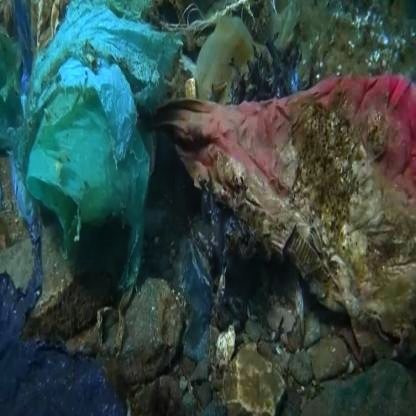plastic: (206, 118, 416, 365), (32, 58, 219, 241)
